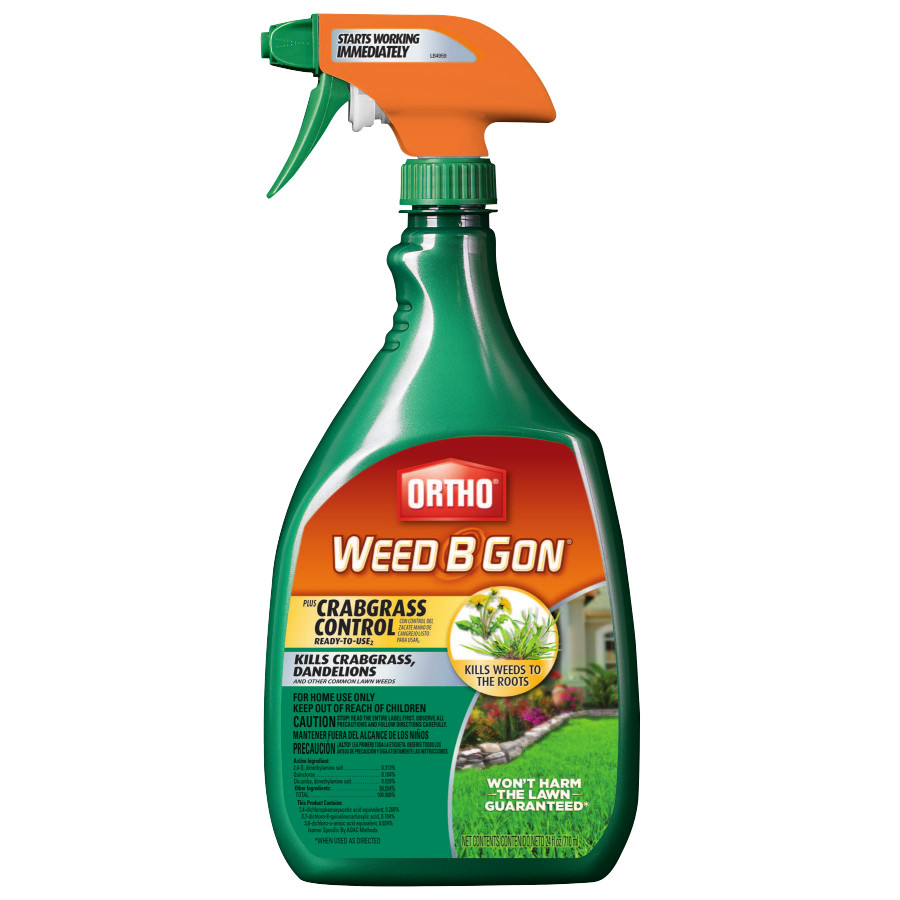crabgrass: (468, 623, 556, 661)
